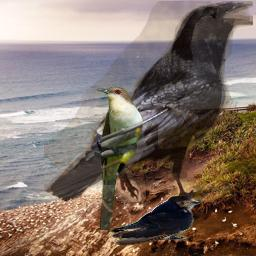Crow: (44, 1, 253, 202)
Cuckoo: (96, 86, 145, 230)
Swallow: (110, 195, 200, 245)
